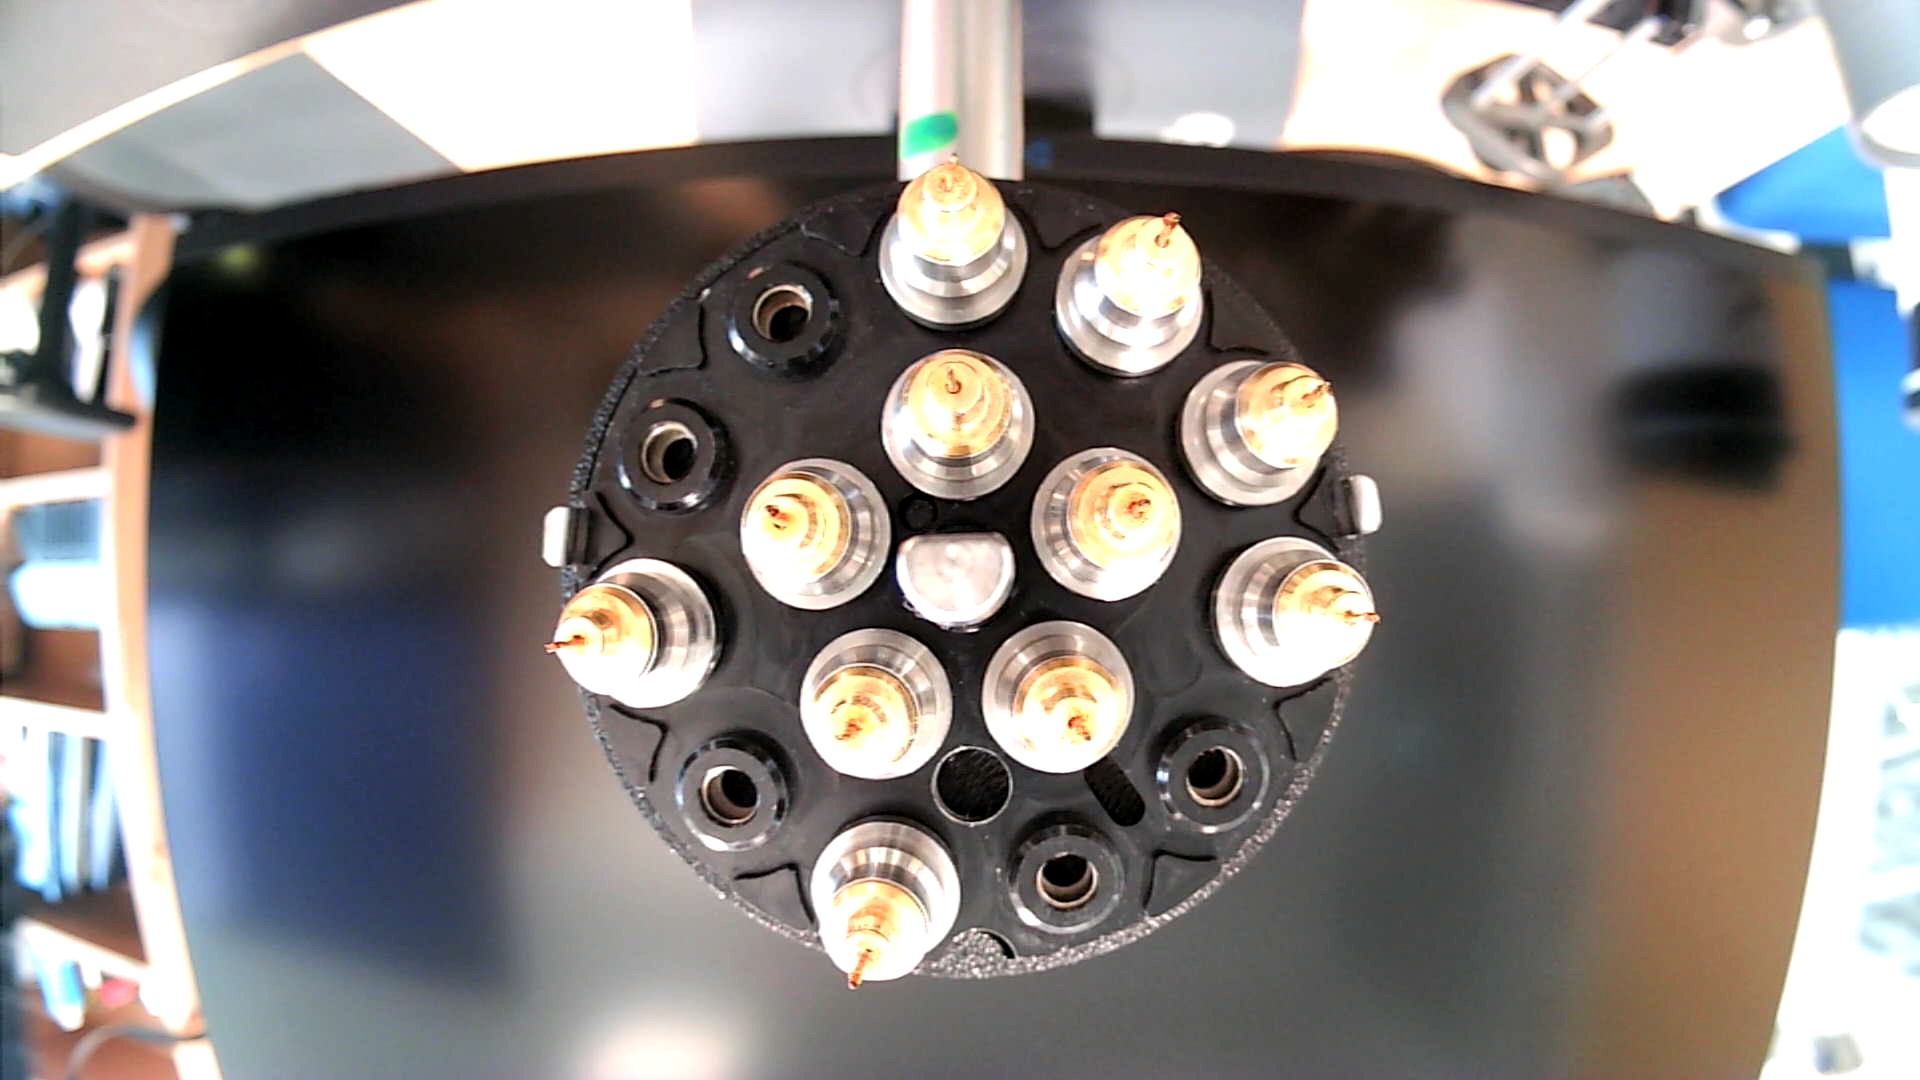empty: (1143, 712, 1280, 847), (673, 728, 798, 862), (609, 392, 738, 521), (720, 257, 855, 377), (1006, 818, 1127, 942)
hole: (930, 740, 1015, 832)
pin: (541, 553, 725, 711), (807, 814, 963, 992), (1205, 533, 1377, 690), (880, 153, 1033, 328), (1055, 208, 1207, 380), (796, 625, 956, 782), (877, 345, 1036, 502), (1029, 446, 1183, 605), (1178, 359, 1337, 513), (977, 621, 1133, 778), (738, 455, 894, 611)
rod: (893, 525, 1021, 636)
